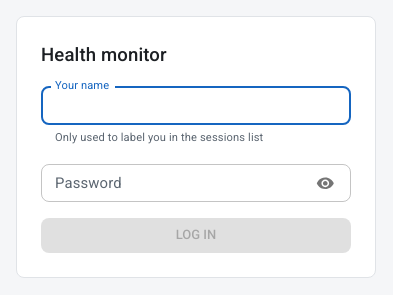
LoginGate › shows and hides the password on request
Type "letmein" into the password field labelled "Password" at (172, 183), box x1=41 y1=164 x2=303 y2=202
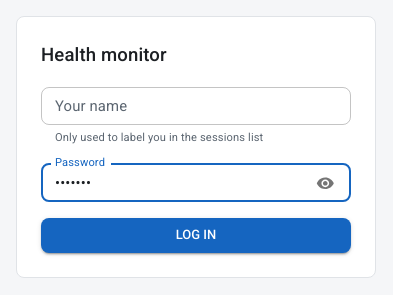
Click the button named "Show password" at (326, 183), box x1=311 y1=169 x2=340 y2=197
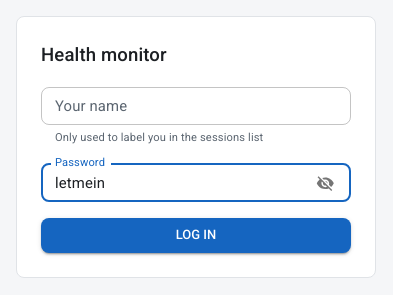
Check: the field labelled "Password" shows its text, box x1=41 y1=164 x2=303 y2=202
Click the button named "Hide password" at (326, 183), box x1=311 y1=169 x2=340 y2=197
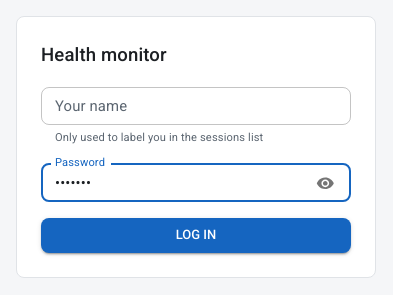
Check: the password field labelled "Password" hides its text, box x1=41 y1=164 x2=303 y2=202
